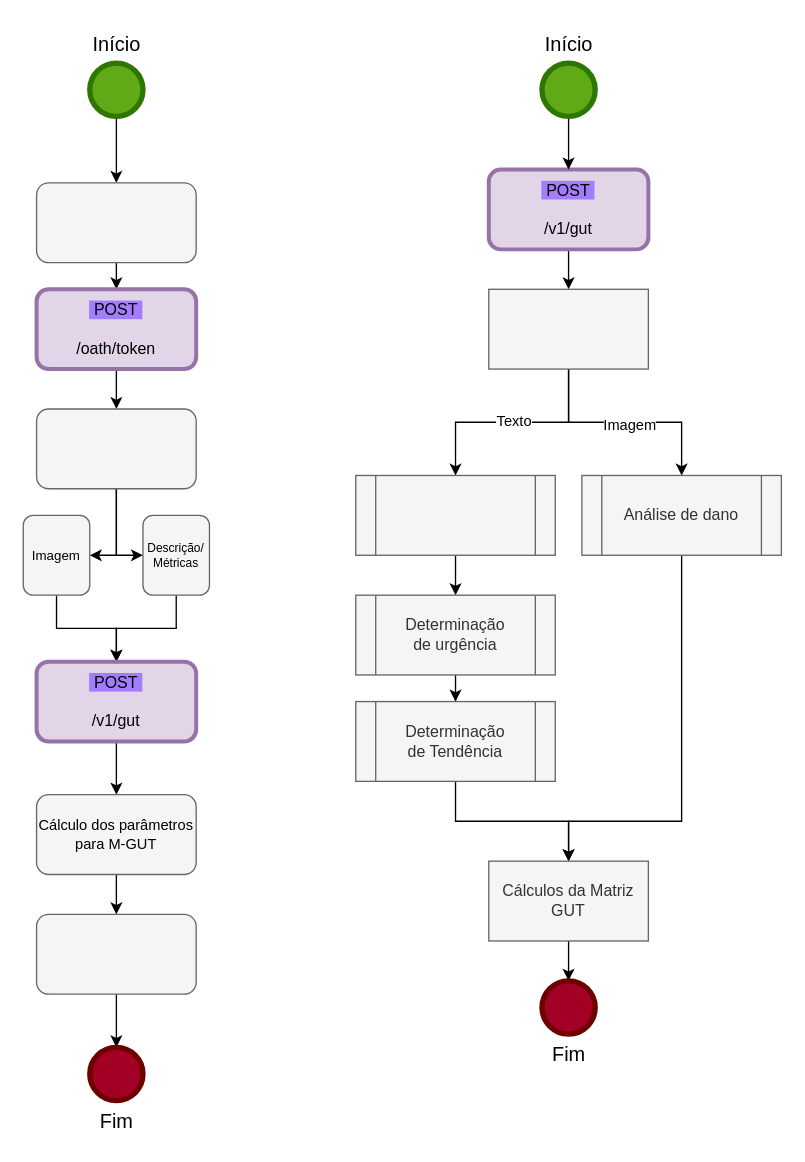
Image size: 805x1162. Some labels were removed from this diagram. The centre of each missing label's shape, as x and y in pixels:
Autenticação na API: point (115, 222)
Determinação de gravidade: point (454, 514)
Envio dos dados: point (115, 448)
Retorna M-GUT: point (115, 953)
Separaçar Texto | Imagem: point (567, 328)
